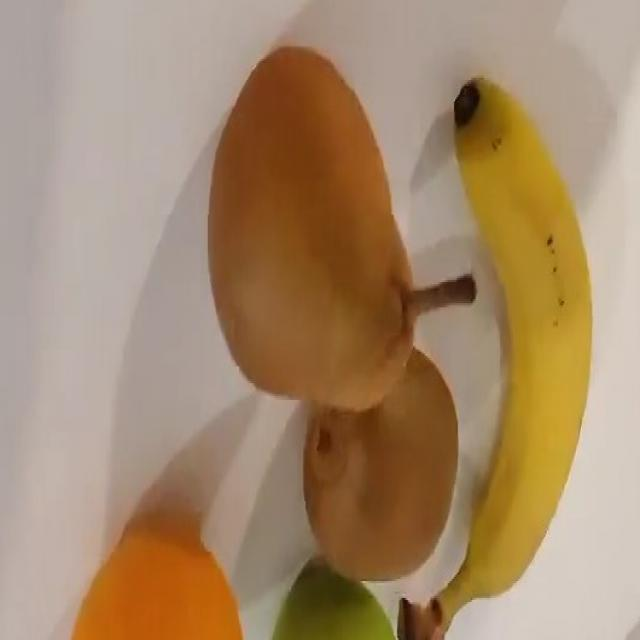Apple: (270, 541, 402, 640)
Banana: (421, 74, 593, 637)
Orange: (48, 497, 257, 640)
